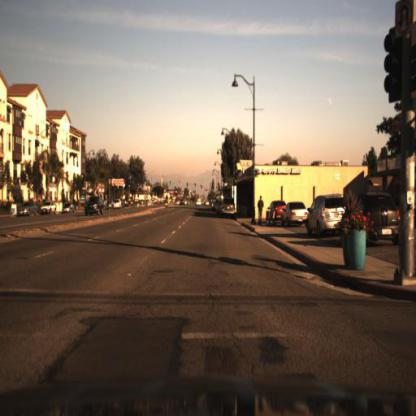car: (345, 181, 405, 246), (304, 185, 346, 241), (306, 194, 350, 239), (283, 199, 310, 235), (79, 192, 113, 219), (83, 193, 108, 220), (219, 196, 241, 222), (265, 196, 284, 224), (264, 201, 286, 224), (220, 195, 239, 219), (15, 202, 37, 222), (39, 199, 61, 217), (59, 202, 79, 218)
pedestrian: (256, 192, 265, 226), (258, 195, 266, 225)
